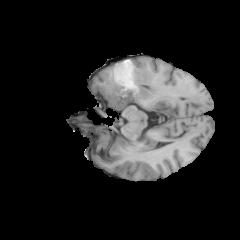glioma: (99, 58, 153, 107)
